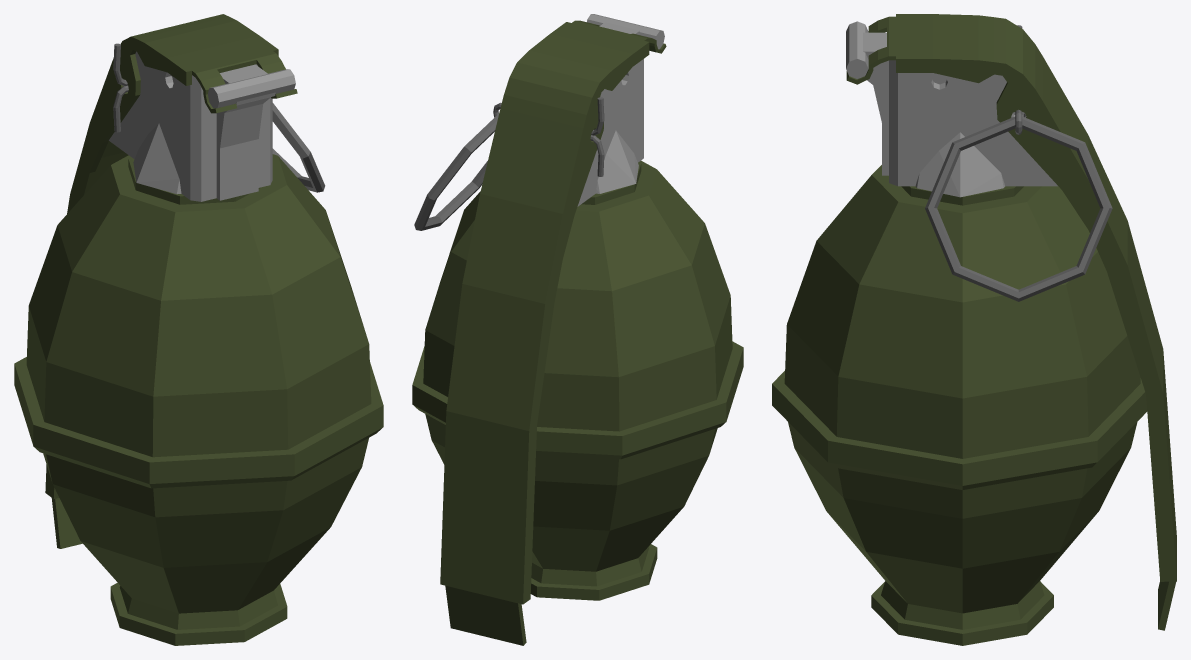
3 views of the same model, side by side, from view 1: azimuth 30°, elevation 25°; view 2: azimuth 150°, elevation 25°; view 3: azimuth 270°, elevation 25° (orthographic). The views are drawn at different scales.
Parts seen in each view (by area): view 1: M26 Grenade 1, M26 Grenade 1 Pin 1, M26 Grenade 1 Safety Pin 1 Handle 1_M26 Grenade 1 Material 3, M26 Grenade 1 Safety Pin 1; view 2: M26 Grenade 1, M26 Grenade 1 Pin 1, M26 Grenade 1 Safety Pin 1 Handle 1_M26 Grenade 1 Material 3, M26 Grenade 1 Safety Pin 1; view 3: M26 Grenade 1, M26 Grenade 1 Pin 1, M26 Grenade 1 Safety Pin 1 Handle 1_M26 Grenade 1 Material 3.
Boxes of the visible parts, left/top/right/bottom form: M26 Grenade 1: left=14, top=51, right=383, bottom=645; M26 Grenade 1 Pin 1: left=45, top=14, right=297, bottom=548; M26 Grenade 1 Safety Pin 1 Handle 1_M26 Grenade 1 Material 3: left=272, top=103, right=325, bottom=192; M26 Grenade 1 Safety Pin 1: left=113, top=43, right=128, bottom=132; M26 Grenade 1: left=412, top=14, right=743, bottom=600; M26 Grenade 1 Pin 1: left=440, top=20, right=666, bottom=645; M26 Grenade 1 Safety Pin 1 Handle 1_M26 Grenade 1 Material 3: left=414, top=113, right=498, bottom=230; M26 Grenade 1 Safety Pin 1: left=493, top=97, right=604, bottom=176; M26 Grenade 1: left=772, top=21, right=1147, bottom=645; M26 Grenade 1 Pin 1: left=846, top=14, right=1176, bottom=630; M26 Grenade 1 Safety Pin 1 Handle 1_M26 Grenade 1 Material 3: left=925, top=116, right=1112, bottom=301.
Size of the model in its own units: 0.0702 by 0.1168 by 0.0746.
